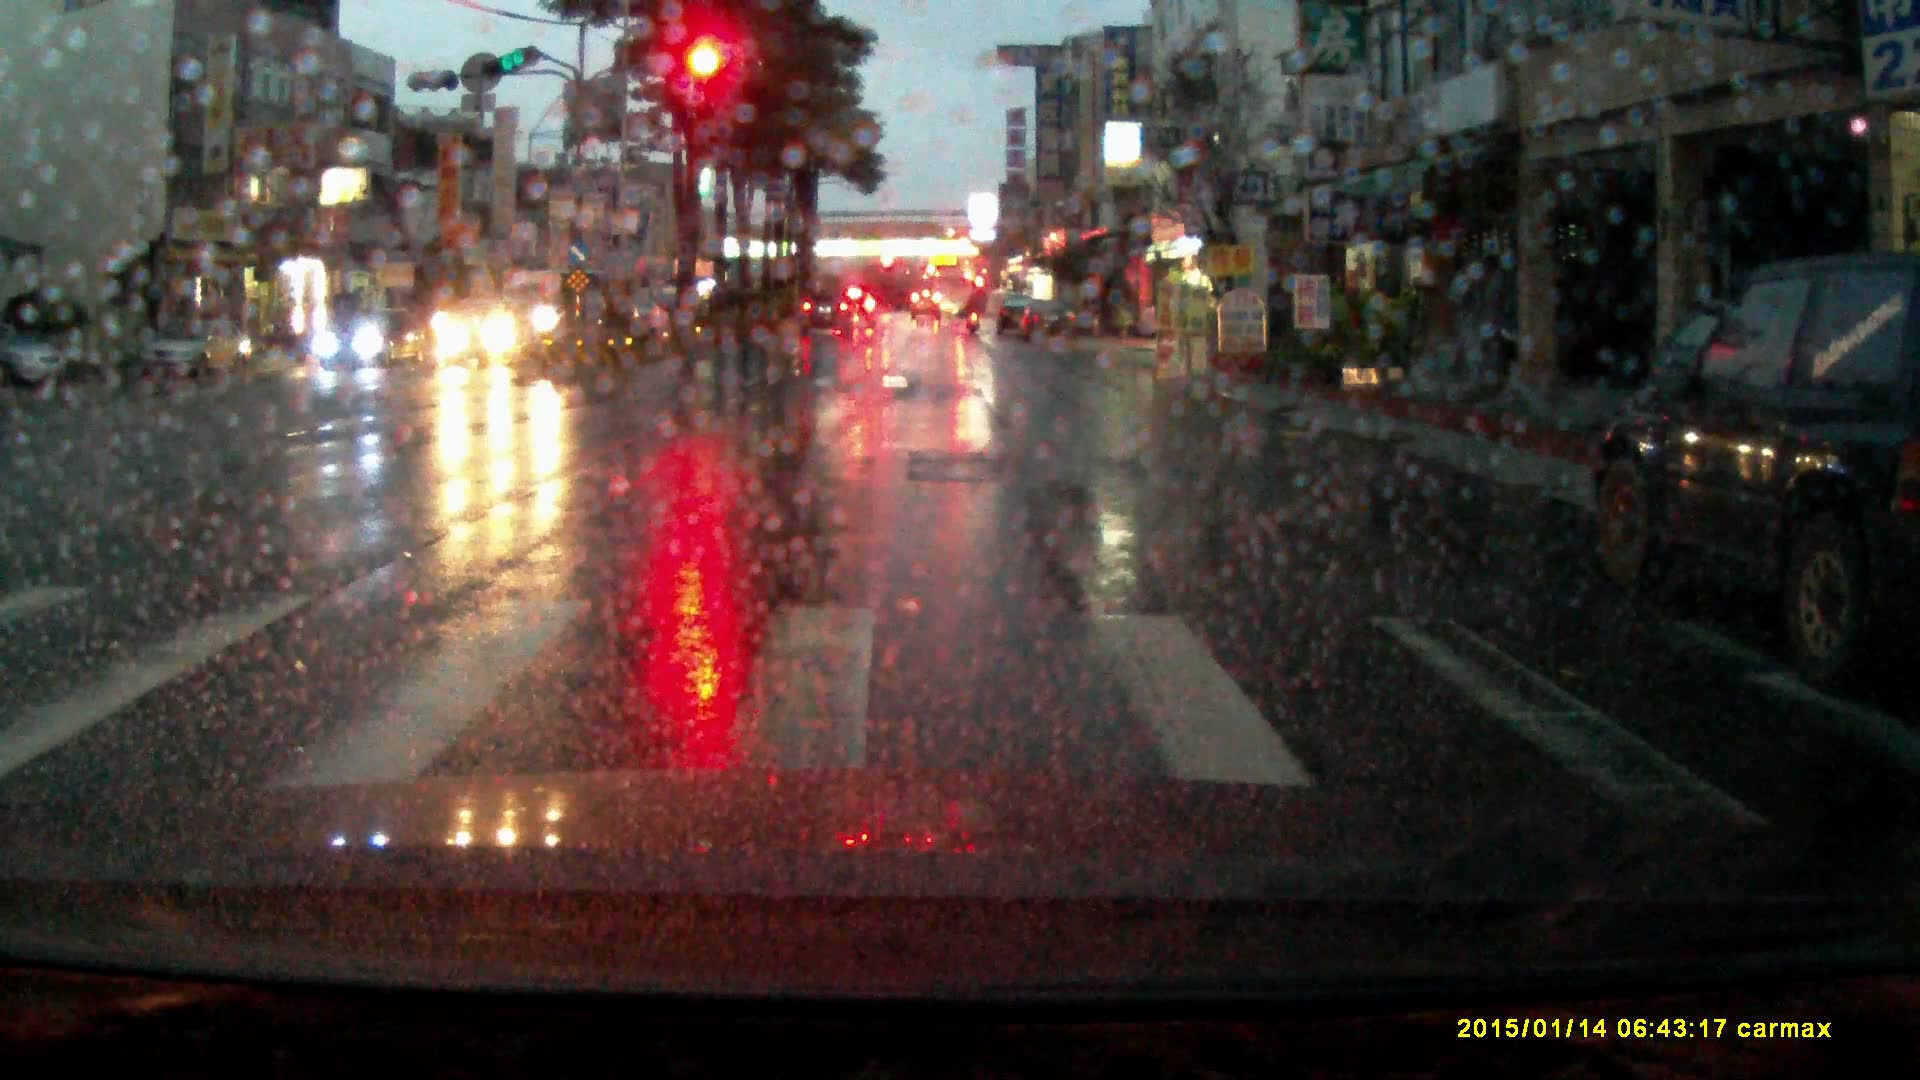rider: (966, 285, 986, 337)
vehicle: (1582, 248, 1920, 683), (431, 298, 546, 370), (315, 306, 428, 375), (142, 314, 253, 380), (494, 268, 591, 341), (574, 288, 664, 340), (1, 331, 69, 389), (1017, 300, 1079, 346), (800, 290, 856, 339), (931, 264, 973, 321), (995, 295, 1030, 338), (848, 289, 879, 327), (911, 291, 943, 322)
